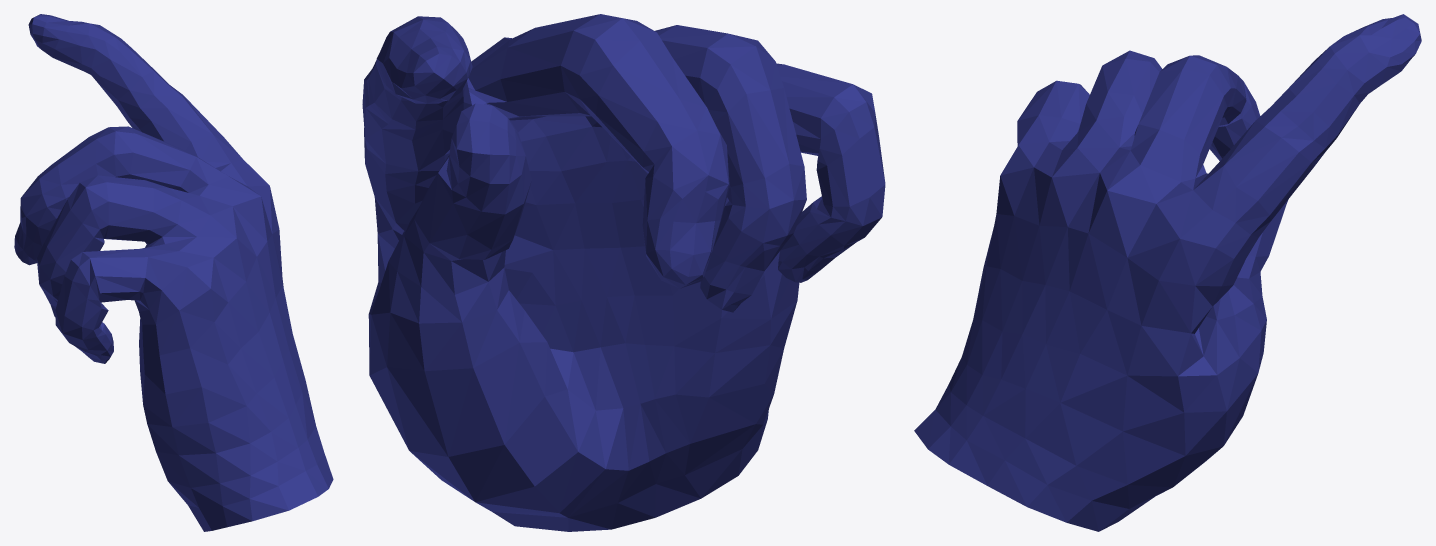
3 renders of one model, left to right at view 1: azimuth 30°, elevation 25°; view 2: azimuth 150°, elevation 25°; view 3: azimuth 270°, elevation 25°, orthographic. The views are drawn at different scales.
Size of the model in its own units: 0.0953 by 0.1417 by 0.1396.
